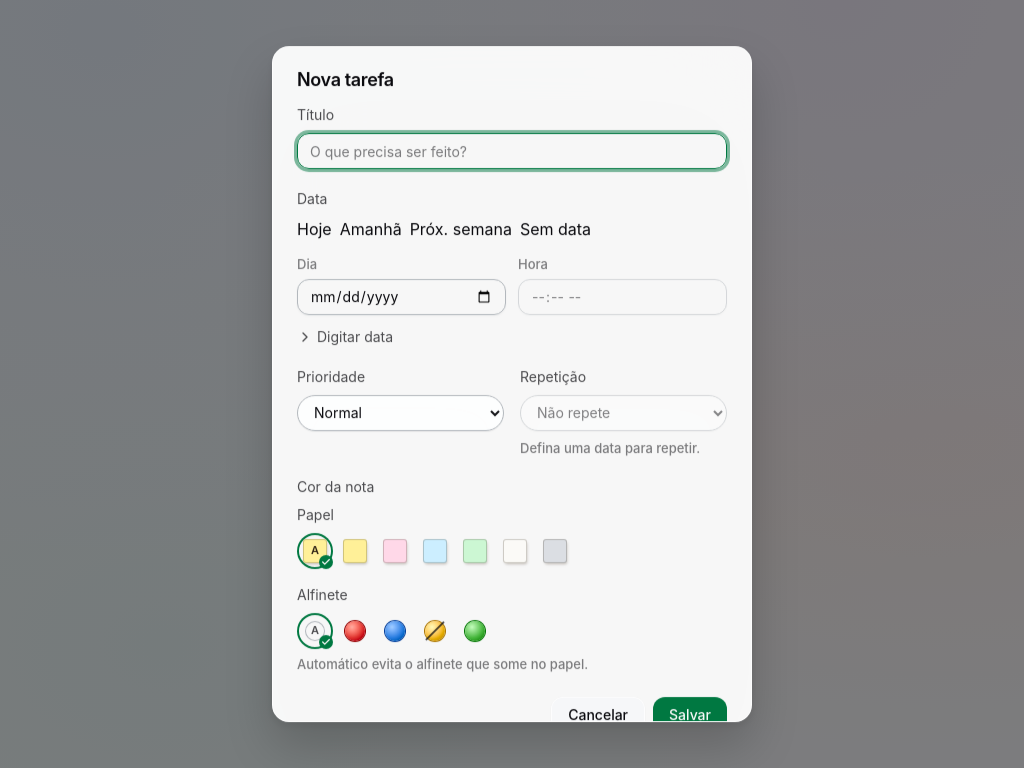
Test: recurrence › is disabled with a hint while there is no date
The image size is (1024, 768).
Expected: the dropdown labelled "Repetição" is disabled, x1=520 y1=395 x2=727 y2=431
Type "2026-11-05" into the date field labelled "Dia".
click(402, 297); type("2026-11-05")  # box x1=297 y1=279 x2=506 y2=315
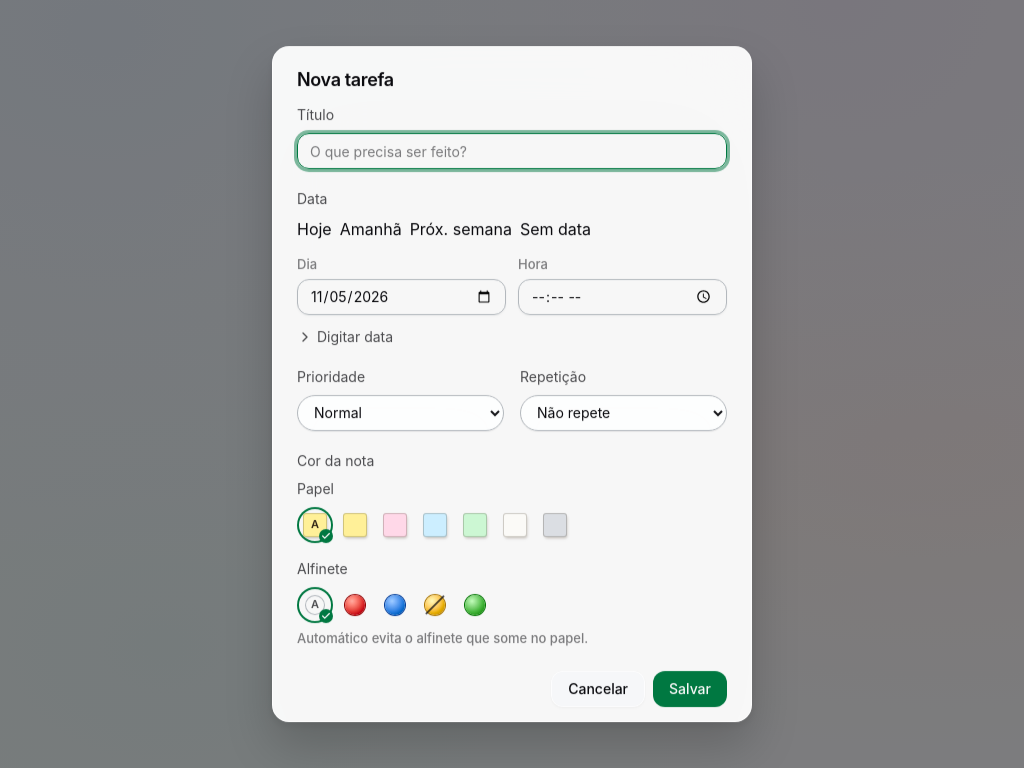
Result: the dropdown labelled "Repetição" is enabled at x1=520 y1=395 x2=727 y2=431
